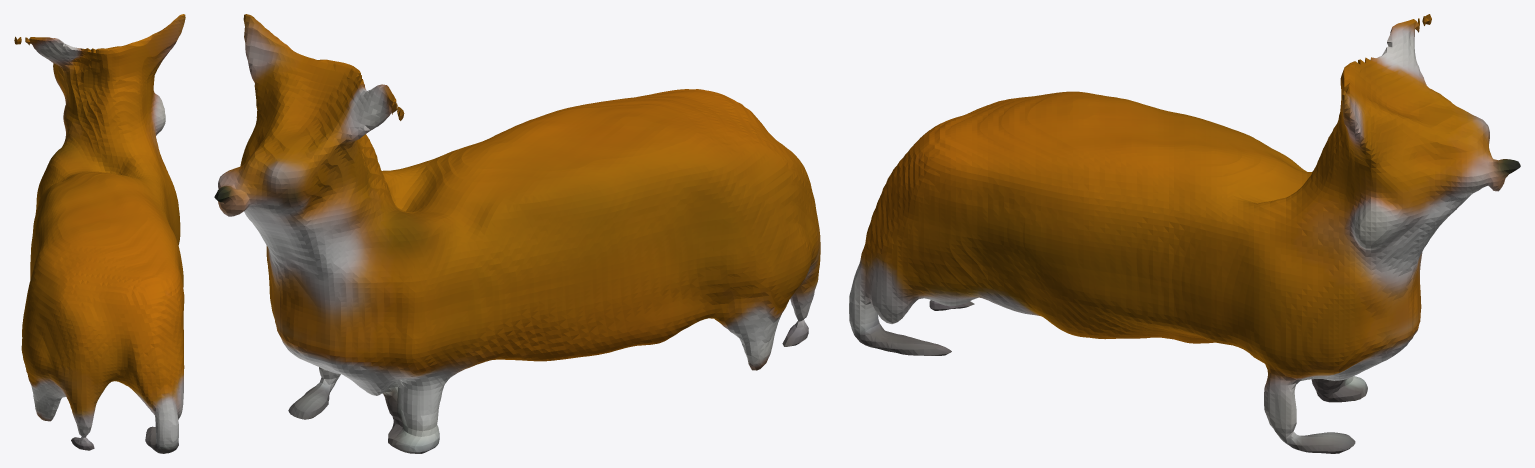
3 renders of one model, left to right at view 1: azimuth 30°, elevation 25°; view 2: azimuth 150°, elevation 25°; view 3: azimuth 270°, elevation 25°, orthographic. The views are drawn at different scales.
Parts seen in each view (by area): view 1: tmpkdtlt3l_.ply; view 2: tmpkdtlt3l_.ply; view 3: tmpkdtlt3l_.ply.
Boxes of the visible parts, x1,y1,x2,y2 form: tmpkdtlt3l_.ply: (14,14,185,453); tmpkdtlt3l_.ply: (214,14,820,453); tmpkdtlt3l_.ply: (849,14,1520,453).
Bounding box in the file's own units: 129 × 123 × 196.
